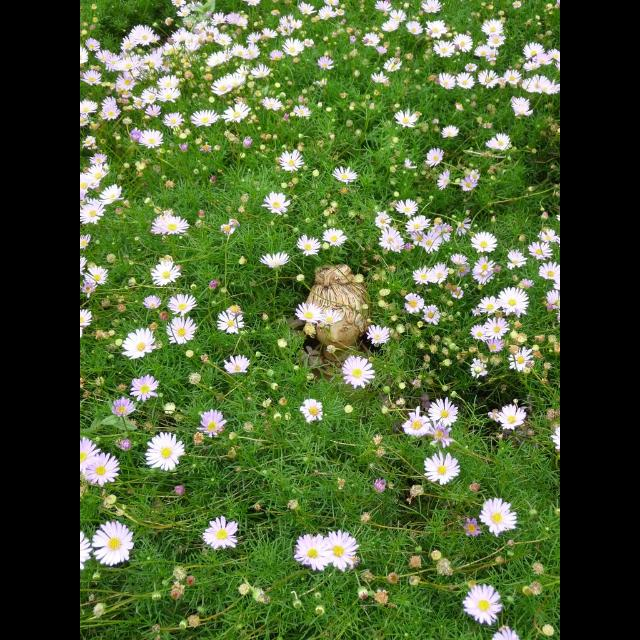Flower: (80, 0, 282, 126), (373, 198, 471, 254), (88, 512, 142, 570), (462, 583, 502, 625), (144, 432, 183, 471), (479, 497, 516, 538), (294, 534, 330, 572), (422, 451, 460, 485), (205, 516, 239, 550), (341, 355, 375, 389), (330, 530, 356, 572), (122, 330, 158, 360), (495, 286, 531, 316), (84, 454, 118, 484), (167, 317, 199, 347), (429, 397, 459, 429), (494, 403, 526, 431), (402, 407, 431, 437), (150, 258, 182, 284), (80, 436, 100, 476), (506, 344, 534, 372), (154, 216, 190, 237), (131, 373, 157, 402), (263, 191, 291, 217), (80, 196, 104, 226), (524, 73, 560, 93), (298, 398, 324, 424), (200, 410, 228, 434), (216, 310, 244, 334), (469, 231, 496, 253), (112, 396, 136, 420), (294, 302, 318, 326), (278, 150, 304, 172), (167, 294, 195, 314), (224, 353, 252, 373), (84, 264, 108, 286), (296, 234, 320, 256), (506, 248, 528, 272), (260, 253, 292, 269), (489, 316, 511, 339), (80, 530, 92, 572), (320, 228, 346, 246), (366, 325, 392, 343), (393, 110, 419, 128), (470, 256, 496, 274), (520, 41, 544, 60), (329, 166, 357, 182), (101, 183, 121, 205), (284, 36, 304, 58), (404, 291, 424, 313), (425, 146, 445, 168), (459, 169, 479, 191), (80, 308, 94, 339), (138, 132, 162, 150), (430, 38, 454, 56), (486, 132, 510, 150), (529, 240, 553, 258), (511, 98, 531, 119), (320, 308, 346, 324), (477, 295, 497, 315), (478, 68, 498, 88), (454, 32, 472, 54), (492, 626, 520, 640), (425, 20, 445, 38), (432, 262, 450, 282), (469, 323, 487, 343), (469, 356, 489, 374), (422, 302, 438, 324), (413, 265, 431, 283), (502, 69, 520, 87), (284, 14, 300, 34), (486, 338, 506, 354), (422, 0, 444, 14), (472, 44, 494, 58), (536, 228, 558, 242), (82, 274, 94, 298), (88, 163, 106, 179), (90, 148, 106, 166), (318, 4, 336, 20), (362, 32, 380, 48), (458, 71, 474, 89), (463, 517, 479, 535), (484, 19, 502, 35), (540, 262, 558, 278), (436, 168, 449, 190), (294, 1, 314, 15), (474, 272, 494, 286), (383, 58, 402, 72), (371, 68, 387, 84), (438, 73, 454, 89), (544, 289, 560, 305), (292, 104, 310, 118), (372, 0, 392, 12), (318, 54, 334, 68), (390, 8, 406, 22), (80, 176, 90, 198), (144, 296, 162, 308), (449, 254, 467, 266), (551, 424, 559, 450), (486, 36, 506, 46), (82, 134, 96, 148), (450, 287, 464, 301), (405, 20, 421, 32), (464, 60, 481, 70), (382, 20, 396, 32), (403, 157, 415, 169), (445, 126, 457, 138), (539, 52, 551, 64), (80, 234, 90, 248), (523, 60, 537, 70), (548, 49, 560, 60), (302, 37, 314, 47), (130, 124, 138, 138), (80, 256, 86, 274), (324, 0, 338, 6), (376, 48, 388, 52), (554, 62, 560, 70)
